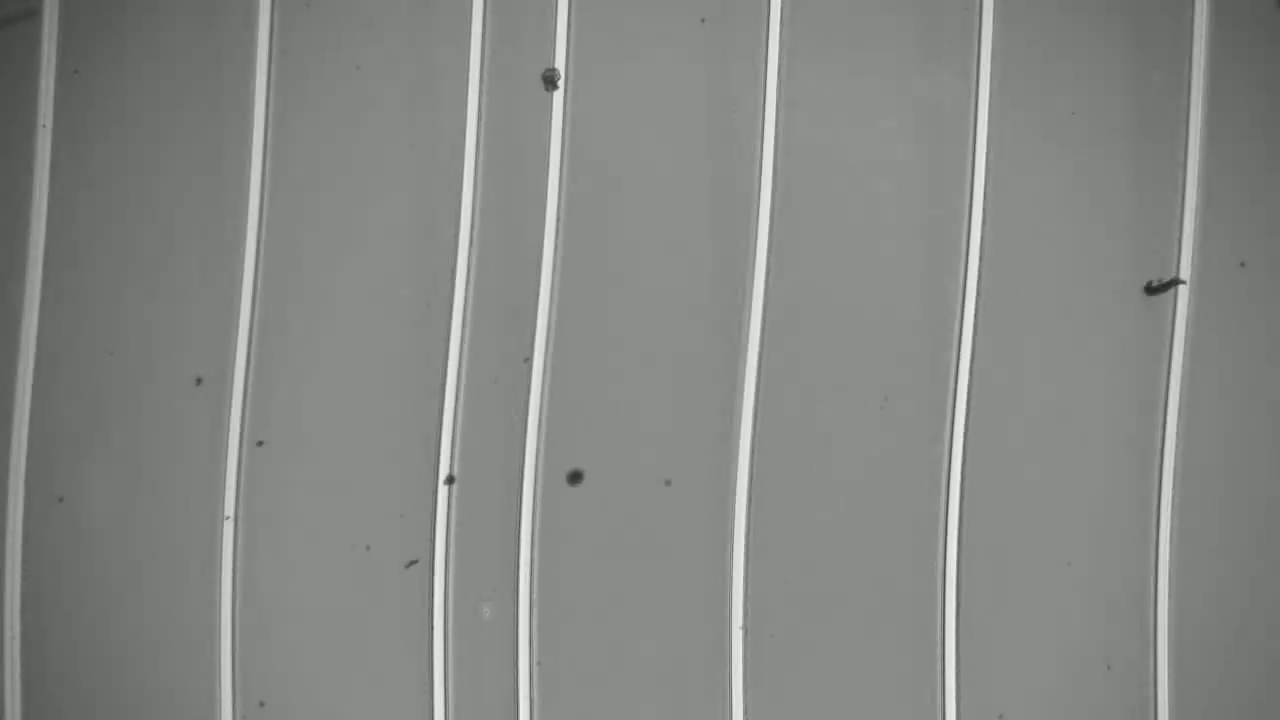stains_enbedded: (536, 57, 575, 103), (430, 470, 467, 496)
